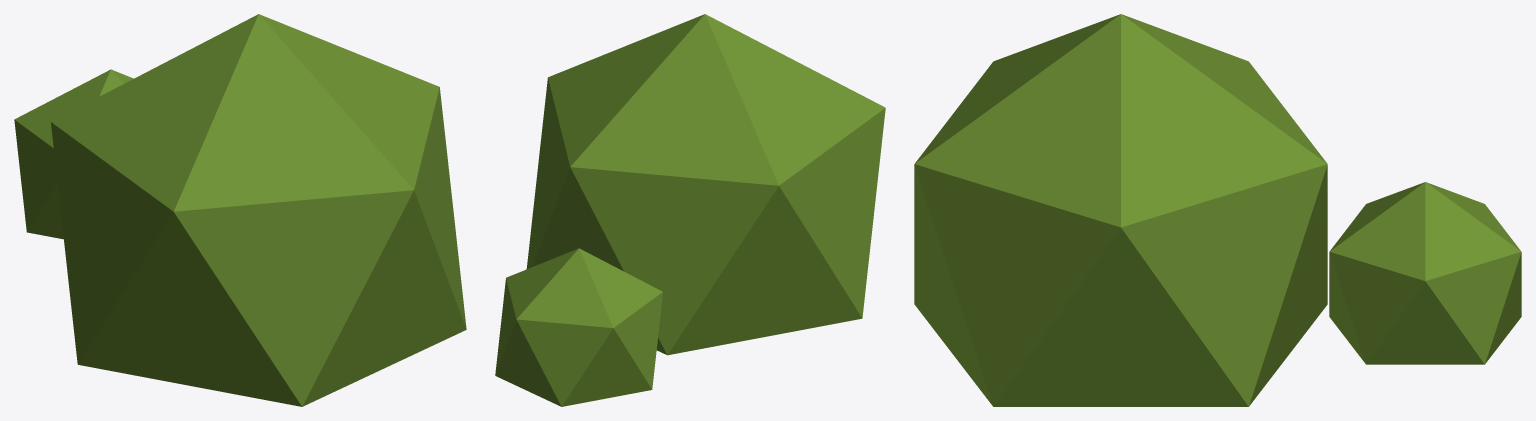
The model's file is bosjes.fbx.
3 renders of one model, left to right at view 1: azimuth 30°, elevation 25°; view 2: azimuth 150°, elevation 25°; view 3: azimuth 270°, elevation 25°, orthographic. The views are drawn at different scales.
Visible parts, largest first — view 1: Icosphere, Icosphere.001; view 2: Icosphere, Icosphere.001; view 3: Icosphere, Icosphere.001.
Part boxes in pixels (left/top/right/bottom): Icosphere: left=51, top=14, right=466, bottom=406; Icosphere.001: left=14, top=69, right=133, bottom=239; Icosphere: left=526, top=14, right=885, bottom=355; Icosphere.001: left=495, top=248, right=662, bottom=406; Icosphere: left=914, top=14, right=1327, bottom=406; Icosphere.001: left=1329, top=182, right=1521, bottom=364.
Bounding box in the file's own units: 60.86 × 49.73 × 85.01.
1 material, 1 textured.
